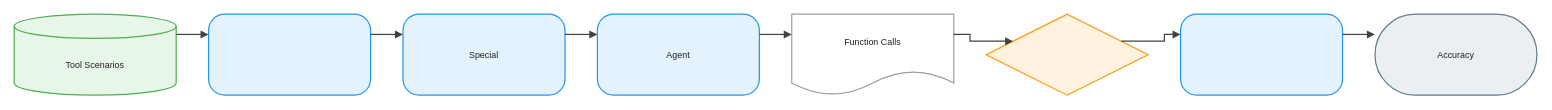
Image size: 1552x110. Some labels were removed from this diagram. The centre of each missing label's shape, as x and y in pixels:
"Error Types" goes at (1261,54).
"Normal" goes at (289,54).
"Rule Eval" goes at (1066,54).
